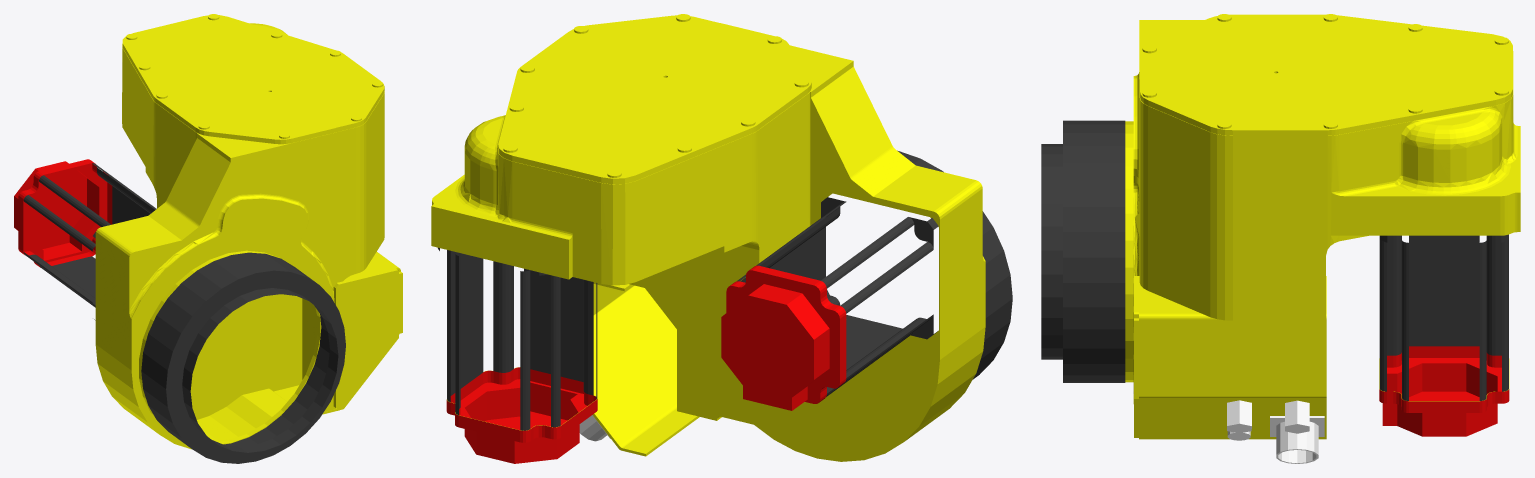
3 renders of one model, left to right at view 1: azimuth 30°, elevation 25°; view 2: azimuth 150°, elevation 25°; view 3: azimuth 270°, elevation 25°, orthographic. The views are drawn at different scales.
Visible parts, largest first — view 1: node; view 2: node; view 3: node.
Part boxes in pixels (x1,y1,x2,y2): node: (14,14,402,463); node: (431,14,1012,463); node: (1041,14,1520,463).
Bounding box in the file's own units: 293 × 284 × 333.
